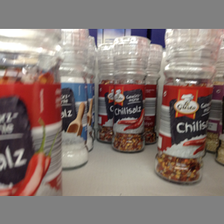spices: (155, 29, 224, 186), (1, 30, 63, 195), (112, 36, 149, 153), (61, 29, 88, 170)
